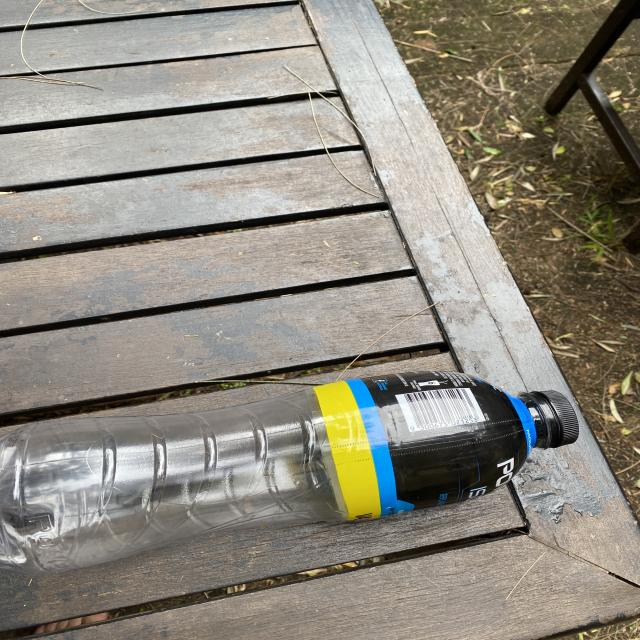bottle: (0, 370, 581, 574)
